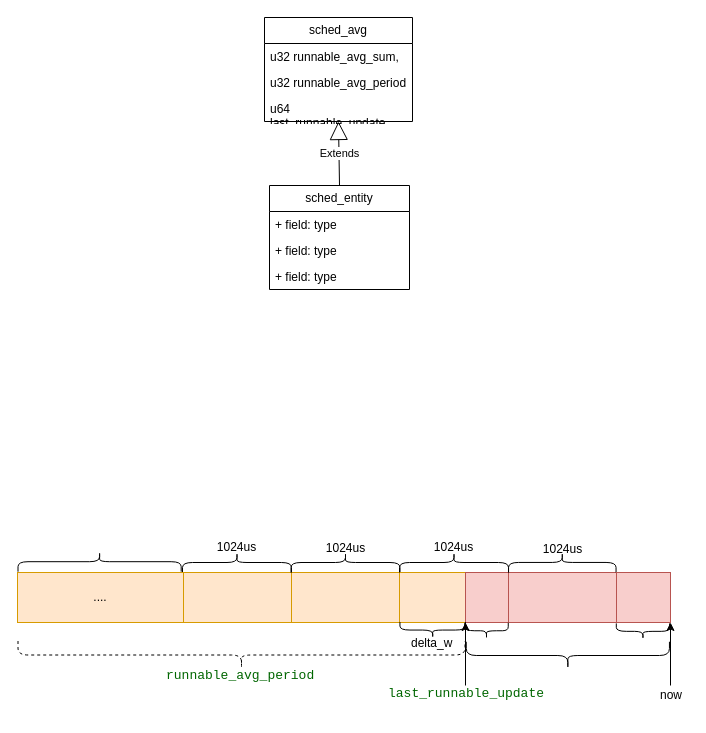
The diagram is 706 pixels wide and 733 high, and some of its shapes have lost their labels. Here are the shapes that lost their labels. From the top down, the centre of each, then its label:
pixel 99 561: n * 1024us
pixel 486 630: delta_w'
pixel 642 630: delta'
pixel 567 655: delta
